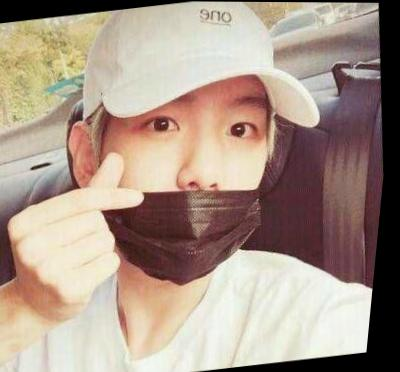WRONG: (82, 56, 297, 293)
